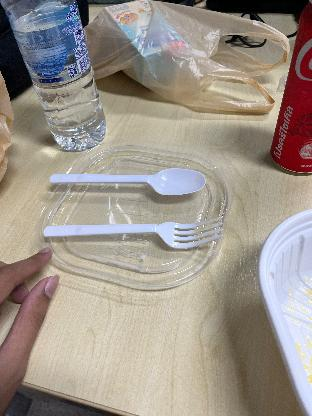Others: (41, 216, 229, 252), (44, 165, 212, 199)
Plastic Bottle: (5, 0, 111, 158)
